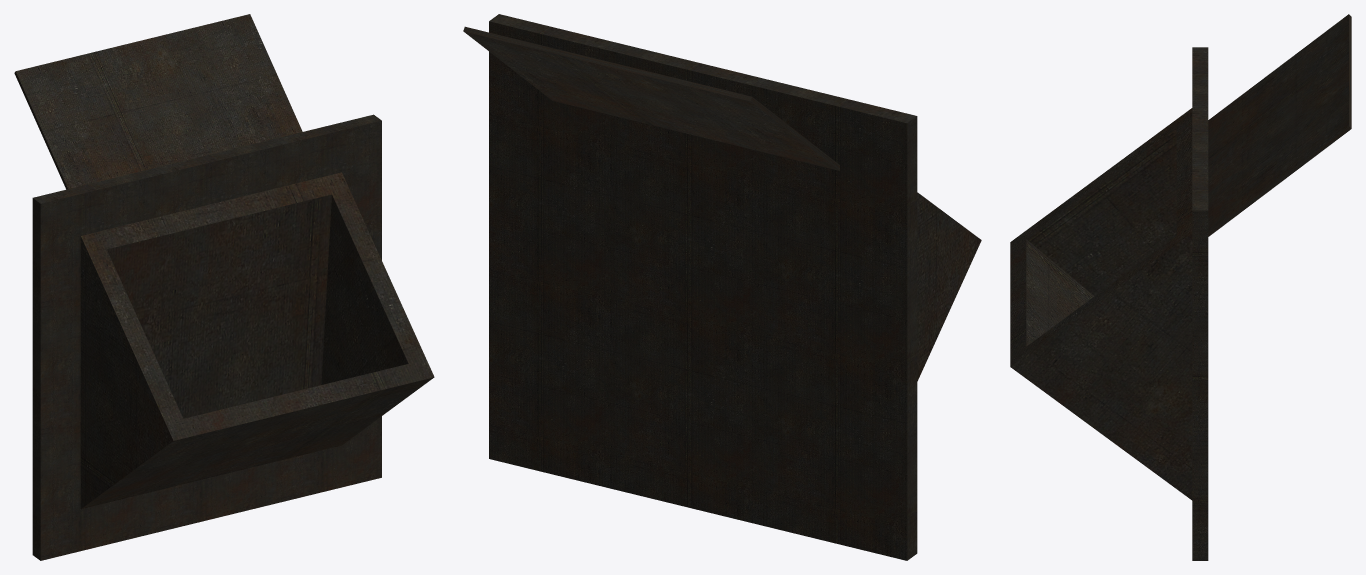
The model's file is Rust.fbx.
The picture shows the model from 3 angles, left to right: view 1: azimuth 30°, elevation 25°; view 2: azimuth 150°, elevation 25°; view 3: azimuth 270°, elevation 25°; orthographic projection. The views are drawn at different scales.
Parts seen in each view (by area): view 1: Cube, Cube.002, Cube.001; view 2: Cube.002, Cube.001, Cube; view 3: Cube, Cube.001, Cube.002.
Boxes of the visible parts, x1,y1,x2,y2 form: Cube: (80,172,434,508); Cube.002: (32,114,381,560); Cube.001: (14,14,302,189); Cube.002: (489,14,917,560); Cube.001: (463,26,839,170); Cube: (917,192,981,381); Cube: (1010,108,1192,500); Cube.001: (1208,14,1351,236); Cube.002: (1192,47,1208,560).
Bounding box in the file's own units: 70.36 × 82.34 × 62.11.
Materials: 1 (1 with a texture image).
